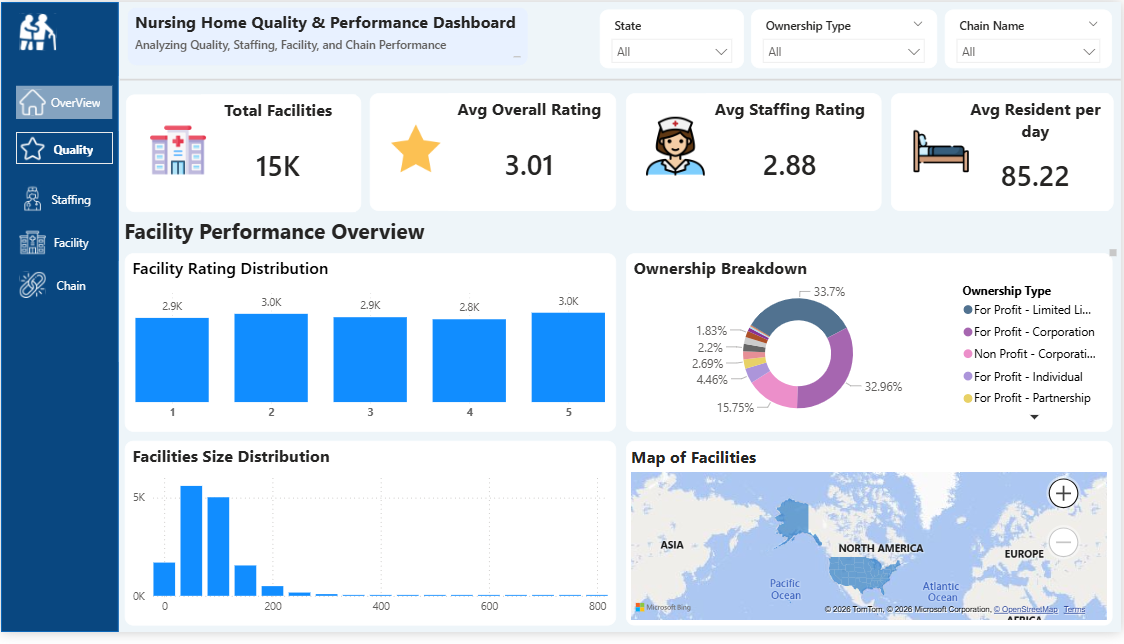

This screenshot's page, from the dashboard's own definition file:
{"tool":"powerbi","page":{"name":"Overview","canvas":[1280,720],"ordinal":0},"visuals":[{"type":"shape","box":[0,0,134.4,720],"z":0,"group":"g7"},{"type":"group","id":"g1","title":"Header","box":[135.7,5.1,1144.3,113.5],"z":0},{"type":"textbox","title":"Nursing Home Quality & Performance Dashboard","box":[144.7,5.1,458.6,67.1],"z":0,"group":"g1"},{"type":"shape","box":[431.2,103.9,263,114.5],"z":0,"group":"g4"},{"type":"shape","box":[719.4,104.2,263.1,114.3],"z":0,"group":"g5"},{"type":"group","id":"g2","title":"Total Facilites","box":[142.9,104.3,263,115.7],"z":0,"group":"g3"},{"type":"shape","box":[1007.6,104.6,263,114.5],"z":0,"group":"g6"},{"type":"shape","box":[142.9,105,263,114.5],"z":0,"group":"g2"},{"type":"tableEx","fields":{"Values":["cms_cleaned.Provider Name","cms_cleaned.CMS Certification Number (CCN)"]},"box":[967.4,540,308.3,173.3],"z":0,"group":"g8"},{"type":"shape","title":"line","box":[135.7,54.3,1144.3,64.3],"z":500,"group":"g1"},{"type":"slicer","fields":{"Values":["cms_cleaned.State"]},"box":[683.7,7.5,165,67.5],"z":1000,"group":"g1"},{"type":"group","id":"g3","title":"KPI Group","box":[142.9,103.9,1131.4,116.1],"z":1000},{"type":"group","id":"g4","title":"Overall Rating","box":[431.2,103.9,263,114.8],"z":1000,"group":"g3"},{"type":"cardVisual","title":"Avg Staffing Rating","fields":{"Data":["cms_cleaned.Average Staffing Rating"]},"box":[778,104.1,198.2,114.5],"z":1000,"group":"g5"},{"type":"cardVisual","title":"Avg Overall Rating","fields":{"Data":["cms_cleaned.Average Overall Rating"]},"box":[494.5,104.2,192.2,114.5],"z":1000,"group":"g4"},{"type":"cardVisual","title":"Total Facilities","fields":{"Data":["cms_cleaned.Total Facilities"]},"box":[214.3,104.3,184.6,115.7],"z":1000,"group":"g2"},{"type":"cardVisual","title":" Avg Resident per day","fields":{"Data":["cms_cleaned.Average Resident per day"]},"box":[1088.1,104.5,186.2,114.5],"z":1000,"group":"g6"},{"type":"actionButton","title":"Staffing","box":[0,274.3,134.3,98.6],"z":1000,"group":"g7"},{"type":"textbox","title":"Select a facility and drill through for detailed analysis","box":[965.7,500,315,41.7],"z":1000,"group":"g8"},{"type":"slicer","fields":{"Values":["cms_cleaned.Ownership Type"]},"box":[857.5,7.5,212.5,67.5],"z":2000,"group":"g1"},{"type":"group","id":"g5","title":"Stafing rating","box":[719.4,104.1,263.1,114.5],"z":2000,"group":"g3"},{"type":"image","box":[167.9,109.6,50,40],"z":2000,"group":"g2"},{"type":"image","box":[727.1,113.4,50,40],"z":2000,"group":"g5"},{"type":"image","box":[1031.1,113.8,50,40],"z":2000,"group":"g6"},{"type":"image","box":[446.8,114.1,50,40],"z":2000,"group":"g4"},{"type":"clusteredColumnChart","title":"Facility Rating Distribution","fields":{"Category":["cms_cleaned.Overall Rating"],"Y":["CountNonNull(cms_cleaned.CMS Certification Number (CCN))"]},"box":[141.4,274.3,561.4,217.1],"z":2000},{"type":"actionButton","title":"Chain","box":[0,462.9,134.3,90],"z":2000,"group":"g7"},{"type":"slicer","fields":{"Values":["cms_cleaned.Chain Name"]},"box":[1078.7,7.5,191.2,67.5],"z":3000,"group":"g1"},{"type":"group","id":"g6","title":"Resident per day","box":[1007.6,104.5,266.7,114.6],"z":3000,"group":"g3"},{"type":"donutChart","title":"Ownership Breakdown","fields":{"Y":["cms_cleaned.Total Facilities"],"Category":["cms_cleaned.Ownership Category"]},"box":[715,275,555,216.7],"z":3000},{"type":"actionButton","title":"Facility","box":[2.9,360,132.9,102.9],"z":3000,"group":"g7"},{"type":"actionButton","title":"OverView","box":[0,98.6,134.3,90],"z":4000,"group":"g7"},{"type":"textbox","title":"Facility Performance Overview","box":[135.7,231.4,1144.3,50],"z":4000},{"type":"actionButton","box":[0,188.6,134.3,90],"z":5000,"group":"g7"},{"type":"clusteredColumnChart","title":"Facilities Size Distribution","fields":{"Category":["cms_cleaned.Number of Certified Beds (bins)"],"Y":["cms_cleaned.Total Facilities"]},"box":[143.3,503.3,420,210],"z":5000},{"type":"actionButton","box":[42.9,11.4,50,54.3],"z":6000,"group":"g7"},{"type":"filledMap","title":"Facility Distribution by State","fields":{"Category":["cms_cleaned.State"],"Series":["cms_cleaned.State"]},"box":[580,501.7,373.3,210],"z":6000},{"type":"group","id":"g7","title":"Side Bar","box":[0,0,135.7,720],"z":7000},{"type":"group","id":"g8","title":"Group 1","box":[965.7,500,314.3,212.9],"z":8000}]}

Visuals, with their boxes on the page's 1280x720 design canvas (x1, y1, x2, y2). These are canvas units, not pixel positions in the 1124x644 screenshot, which may show the page scaled, cropped or inside an application window:
shape: <bbox>0, 0, 134, 720</bbox>
"Header" group: <bbox>136, 5, 1280, 119</bbox>
"Nursing Home Quality & Performance Dashboard" textbox: <bbox>145, 5, 603, 72</bbox>
shape: <bbox>431, 104, 694, 218</bbox>
shape: <bbox>719, 104, 982, 218</bbox>
"Total Facilites" group: <bbox>143, 104, 406, 220</bbox>
shape: <bbox>1008, 105, 1271, 219</bbox>
shape: <bbox>143, 105, 406, 220</bbox>
tableEx - cms_cleaned.Provider Name x cms_cleaned.CMS Certification Number (CCN): <bbox>967, 540, 1276, 713</bbox>
"line" shape: <bbox>136, 54, 1280, 119</bbox>
slicer - cms_cleaned.State: <bbox>684, 8, 849, 75</bbox>
"KPI Group" group: <bbox>143, 104, 1274, 220</bbox>
"Overall Rating" group: <bbox>431, 104, 694, 219</bbox>
"Avg Staffing Rating" cardVisual: <bbox>778, 104, 976, 219</bbox>
"Avg Overall Rating" cardVisual: <bbox>494, 104, 687, 219</bbox>
"Total Facilities" cardVisual: <bbox>214, 104, 399, 220</bbox>
" Avg Resident per day" cardVisual: <bbox>1088, 104, 1274, 219</bbox>
"Staffing" actionButton: <bbox>0, 274, 134, 373</bbox>
"Select a facility and drill through for detailed analysis" textbox: <bbox>966, 500, 1281, 542</bbox>
slicer - cms_cleaned.Ownership Type: <bbox>858, 8, 1070, 75</bbox>
"Stafing rating" group: <bbox>719, 104, 982, 219</bbox>
image: <bbox>168, 110, 218, 150</bbox>
image: <bbox>727, 113, 777, 153</bbox>
image: <bbox>1031, 114, 1081, 154</bbox>
image: <bbox>447, 114, 497, 154</bbox>
"Facility Rating Distribution" clusteredColumnChart: <bbox>141, 274, 703, 491</bbox>
"Chain" actionButton: <bbox>0, 463, 134, 553</bbox>
slicer - cms_cleaned.Chain Name: <bbox>1079, 8, 1270, 75</bbox>
"Resident per day" group: <bbox>1008, 104, 1274, 219</bbox>
"Ownership Breakdown" donutChart: <bbox>715, 275, 1270, 492</bbox>
"Facility" actionButton: <bbox>3, 360, 136, 463</bbox>
"OverView" actionButton: <bbox>0, 99, 134, 189</bbox>
"Facility Performance Overview" textbox: <bbox>136, 231, 1280, 281</bbox>
actionButton: <bbox>0, 189, 134, 279</bbox>
"Facilities Size Distribution" clusteredColumnChart: <bbox>143, 503, 563, 713</bbox>
actionButton: <bbox>43, 11, 93, 66</bbox>
"Facility Distribution by State" filledMap: <bbox>580, 502, 953, 712</bbox>
"Side Bar" group: <bbox>0, 0, 136, 720</bbox>
"Group 1" group: <bbox>966, 500, 1280, 713</bbox>
